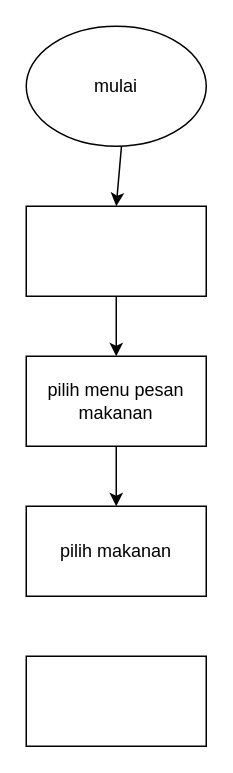
The diagram is 233 pixels wide and 773 high, and some of its shapes have lost their labels. The shapes that lost their labels are listed below. From the top down, each one's centre as x and y in pixels, then its label:
the point at 115,250: buka aplikasi pesan makanan online
the point at 115,700: checkout makanan
